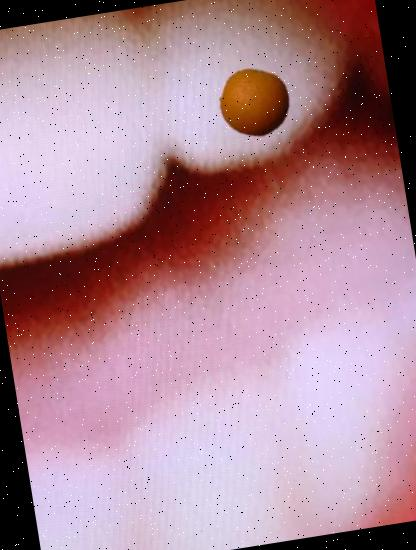Orange: (214, 63, 296, 144)
